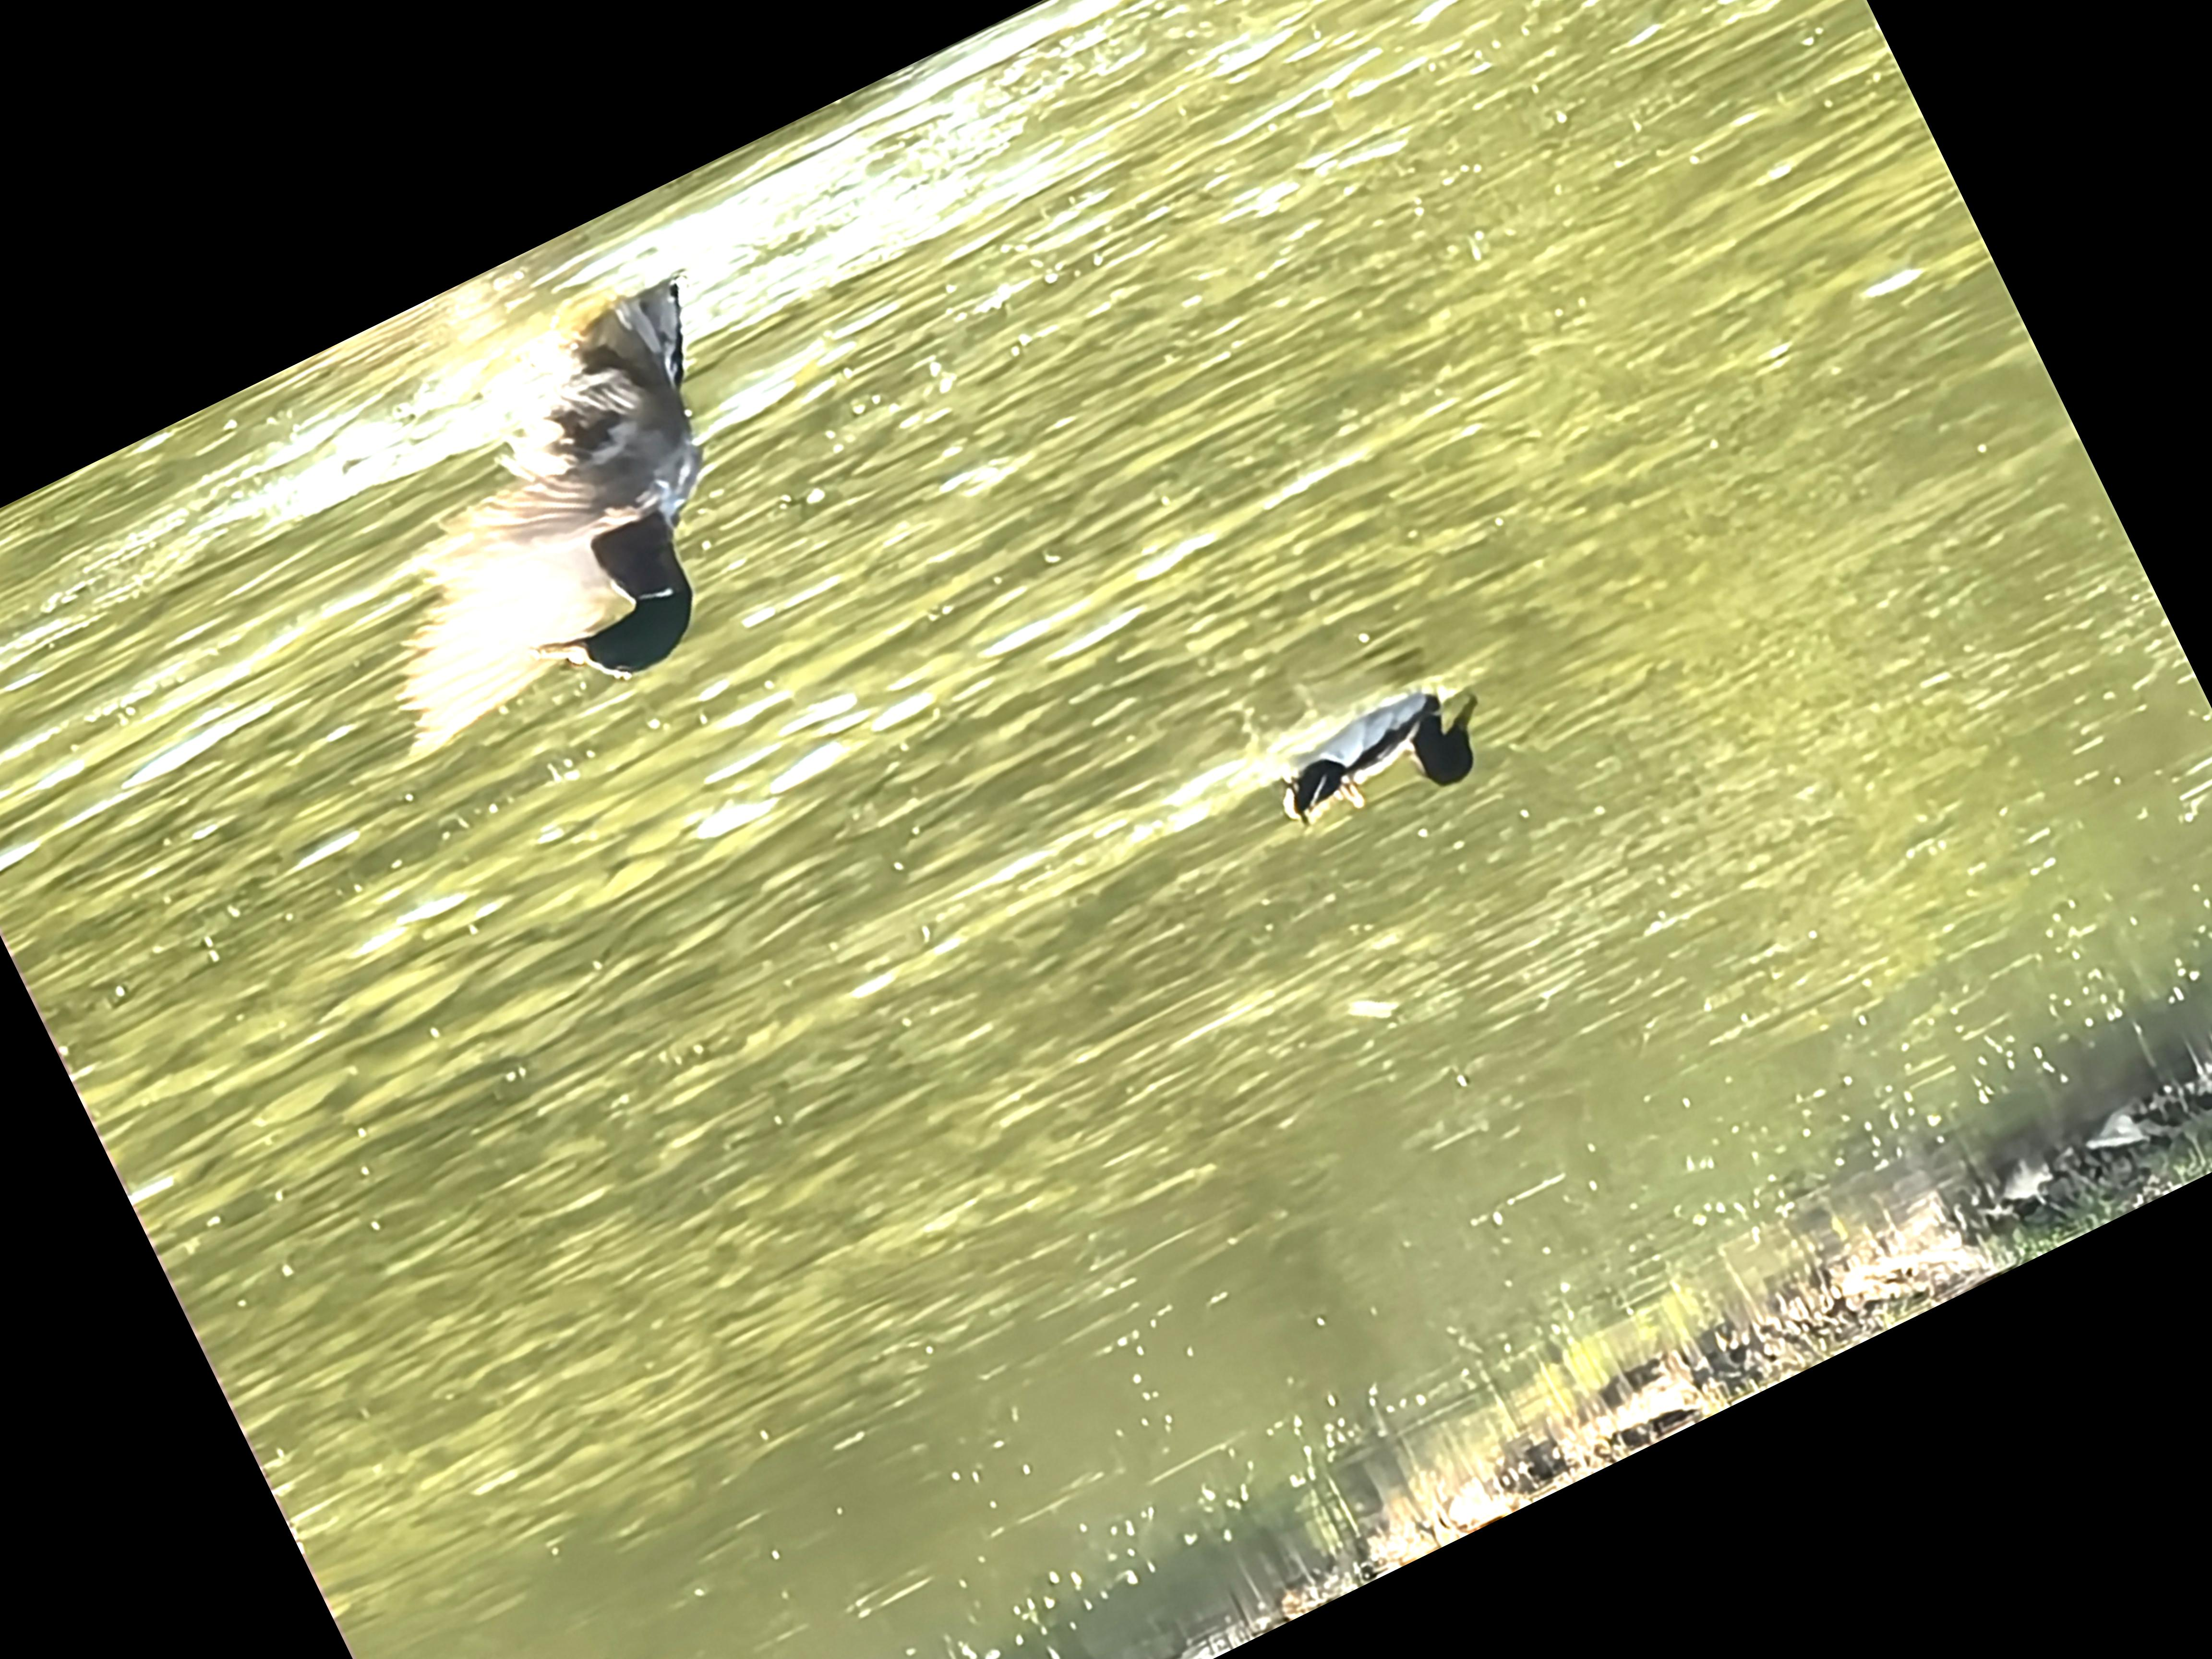duck: (260, 247, 902, 821), (1235, 647, 1536, 889)
